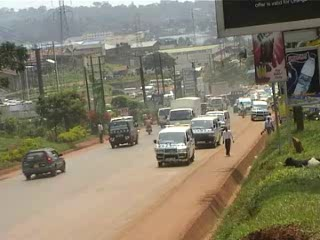Car: (20, 145, 67, 182), (232, 95, 242, 113)
Motorcycle: (143, 117, 155, 134), (237, 99, 246, 118)
